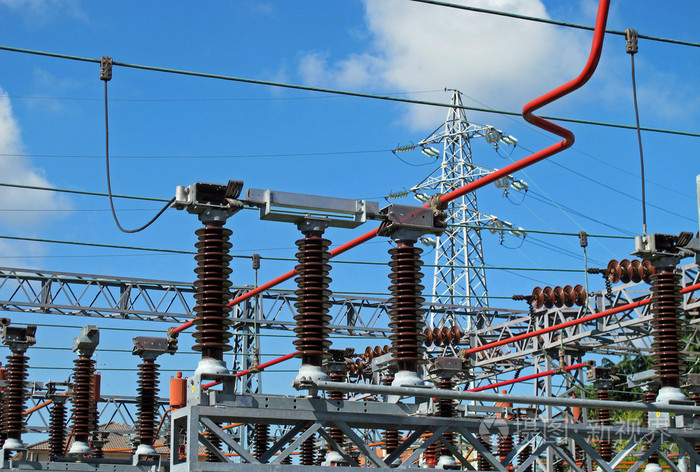insulator: (607, 257, 653, 284), (531, 286, 586, 307), (424, 325, 462, 345), (364, 345, 392, 360), (346, 359, 360, 376)
